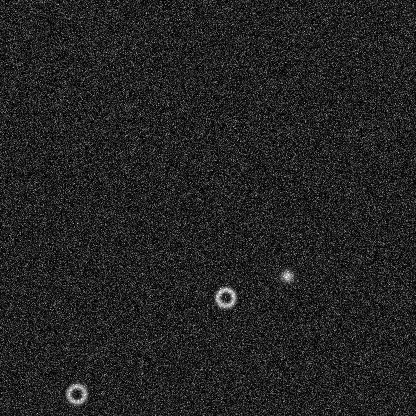Ring: (213, 285, 237, 309), (64, 381, 88, 405)
Spot: (279, 267, 295, 283)
